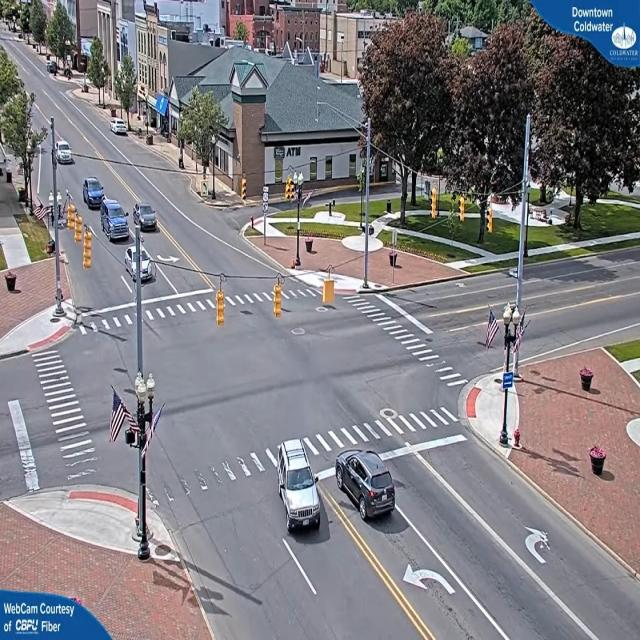car: (338, 451, 399, 522), (278, 444, 323, 536), (103, 204, 132, 242), (82, 178, 106, 210), (133, 247, 154, 283), (135, 206, 159, 235), (54, 136, 73, 163), (112, 121, 130, 138)
